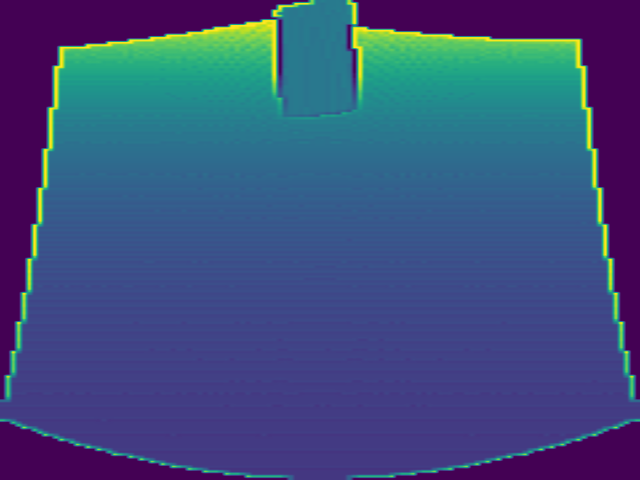cylinder: (269, 1, 362, 119)
